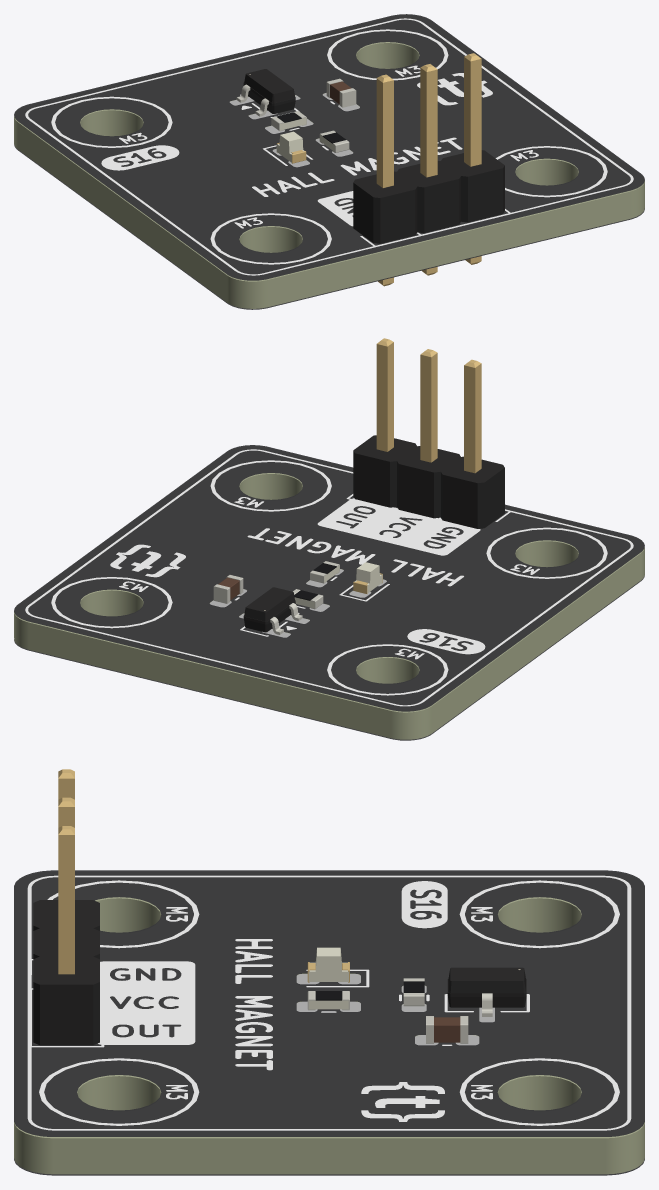
3 renders of one model, top to bottom at view 1: azimuth 30°, elevation 25°; view 2: azimuth 150°, elevation 25°; view 3: azimuth 270°, elevation 25°, orthographic. The views are drawn at different scales.
Visible parts, largest first — view 1: =>[0:1:1:10], =>[0:1:1:12], J1, =>[0:1:1:8], U1, =>[0:1:1:11], =>[0:1:1:7], D1, C1, R1, R2; view 2: =>[0:1:1:10], =>[0:1:1:12], J1, =>[0:1:1:8], U1, =>[0:1:1:11], =>[0:1:1:7], D1, C1; view 3: =>[0:1:1:10], =>[0:1:1:12], =>[0:1:1:8], J1, U1, =>[0:1:1:11], =>[0:1:1:7], D1, C1, R2, R1.
Boxes of the visible parts, x1,y1,x2,y2 form: =>[0:1:1:10]: (14, 14, 644, 280); =>[0:1:1:12]: (14, 42, 644, 308); J1: (353, 53, 504, 286); =>[0:1:1:8]: (25, 18, 633, 275); U1: (236, 69, 295, 116); =>[0:1:1:11]: (14, 145, 644, 309); =>[0:1:1:7]: (229, 93, 359, 167); D1: (276, 131, 306, 163); C1: (326, 78, 356, 107); R1: (271, 111, 306, 131); R2: (319, 130, 349, 152); =>[0:1:1:10]: (14, 445, 644, 711); =>[0:1:1:12]: (14, 473, 644, 739); J1: (353, 338, 504, 528); =>[0:1:1:8]: (25, 449, 633, 706); U1: (243, 587, 302, 634); =>[0:1:1:11]: (14, 576, 644, 740); =>[0:1:1:7]: (210, 569, 386, 637); D1: (353, 562, 382, 593); C1: (213, 575, 243, 603); =>[0:1:1:10]: (14, 870, 644, 1136); =>[0:1:1:12]: (14, 897, 644, 1174); =>[0:1:1:8]: (27, 875, 631, 1130); J1: (33, 769, 99, 1045); U1: (447, 967, 526, 1016); =>[0:1:1:11]: (14, 1158, 644, 1175); =>[0:1:1:7]: (296, 974, 494, 1045); D1: (307, 947, 349, 982); C1: (426, 1016, 468, 1043); R2: (307, 991, 349, 1010); R1: (403, 978, 424, 1006).
Bounding box in the file's own units: 0.024 × 0.0115 × 0.024.
